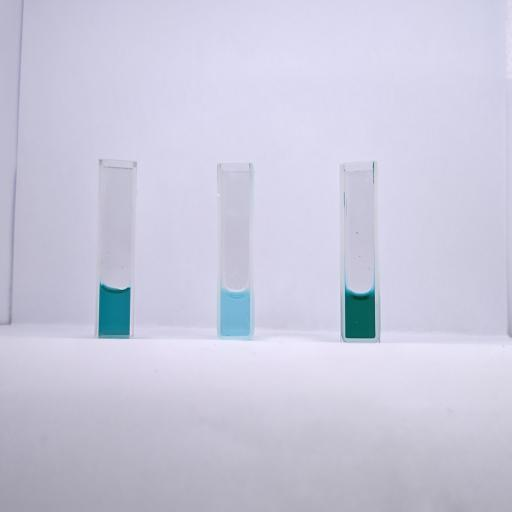cuvette: (337, 159, 383, 344), (93, 157, 139, 339), (215, 161, 256, 340)
liquid: (99, 287, 130, 336), (221, 288, 250, 336), (346, 292, 375, 338)
